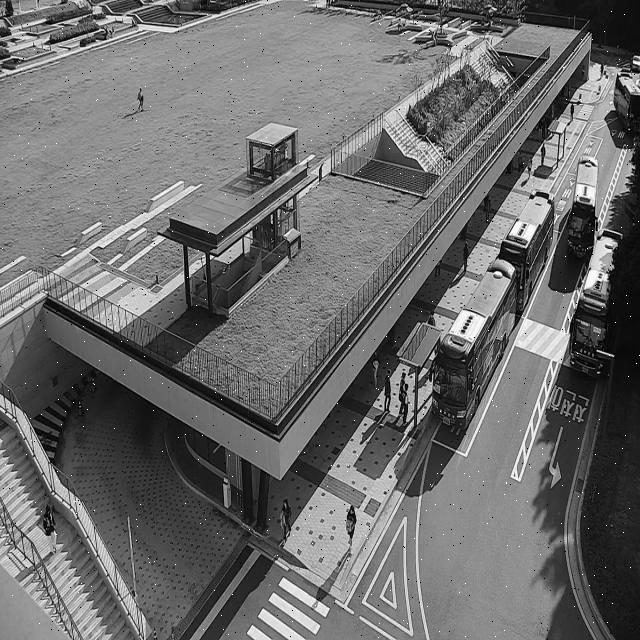queue: (415, 313, 437, 433)
